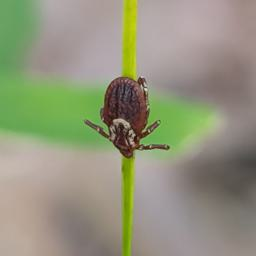Dermacentor variabilis: (83, 81, 171, 157)
